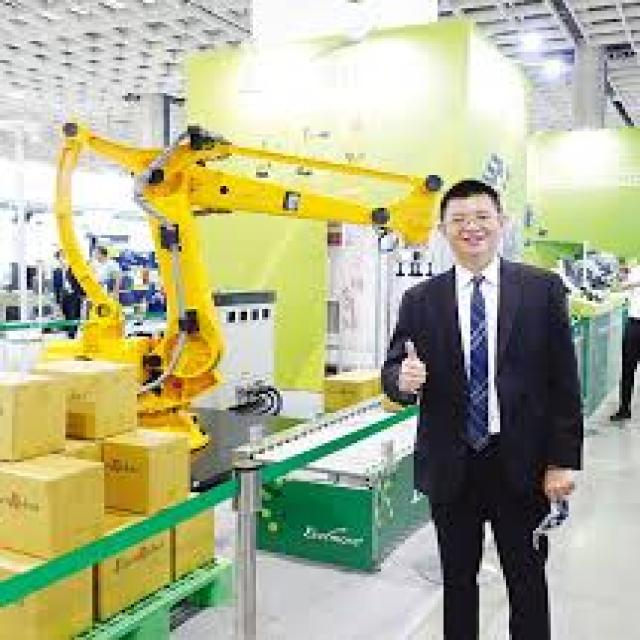Robotic-arm: (52, 111, 446, 391)
